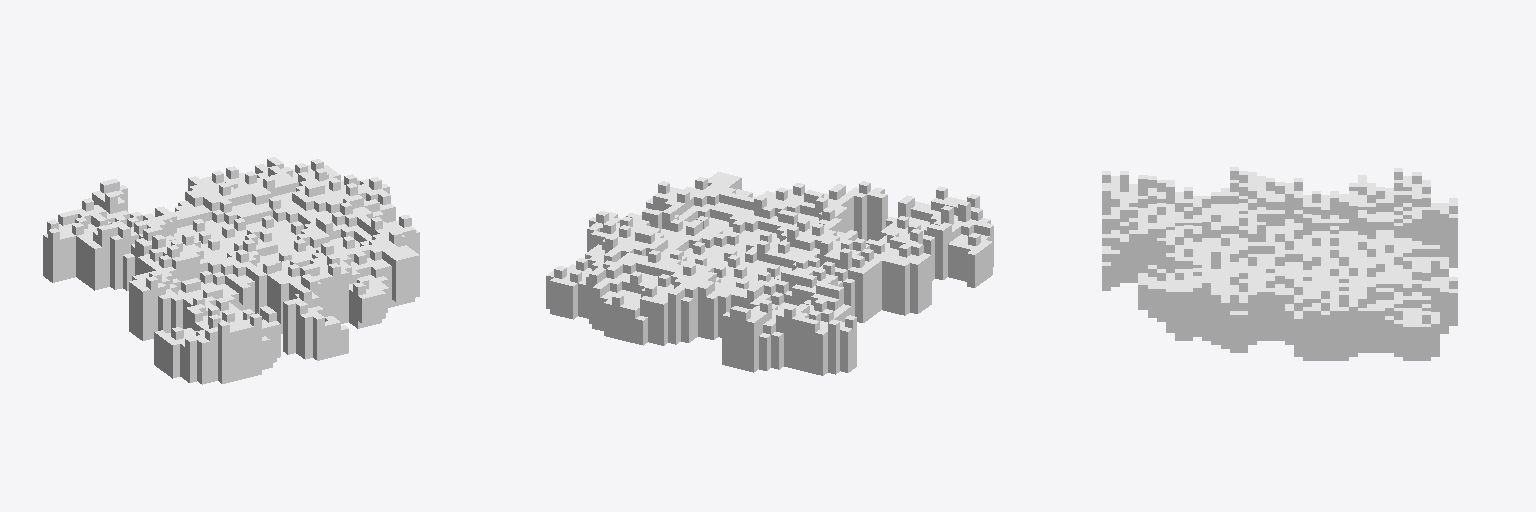
File: CountrySide-4-Vegetation1.obj
3 renders of one model, left to right at view 1: azimuth 30°, elevation 25°; view 2: azimuth 150°, elevation 25°; view 3: azimuth 270°, elevation 25°, orthographic.
Visible parts, largest first — view 1: Vegetation1; view 2: Vegetation1; view 3: Vegetation1.
Boxes of the visible parts, <box> form: Vegetation1: <box>43,157,419,384</box>; Vegetation1: <box>546,172,993,375</box>; Vegetation1: <box>1102,167,1457,360</box>.
Bounding box in the file's own units: 3.9 × 0.8 × 3.9.